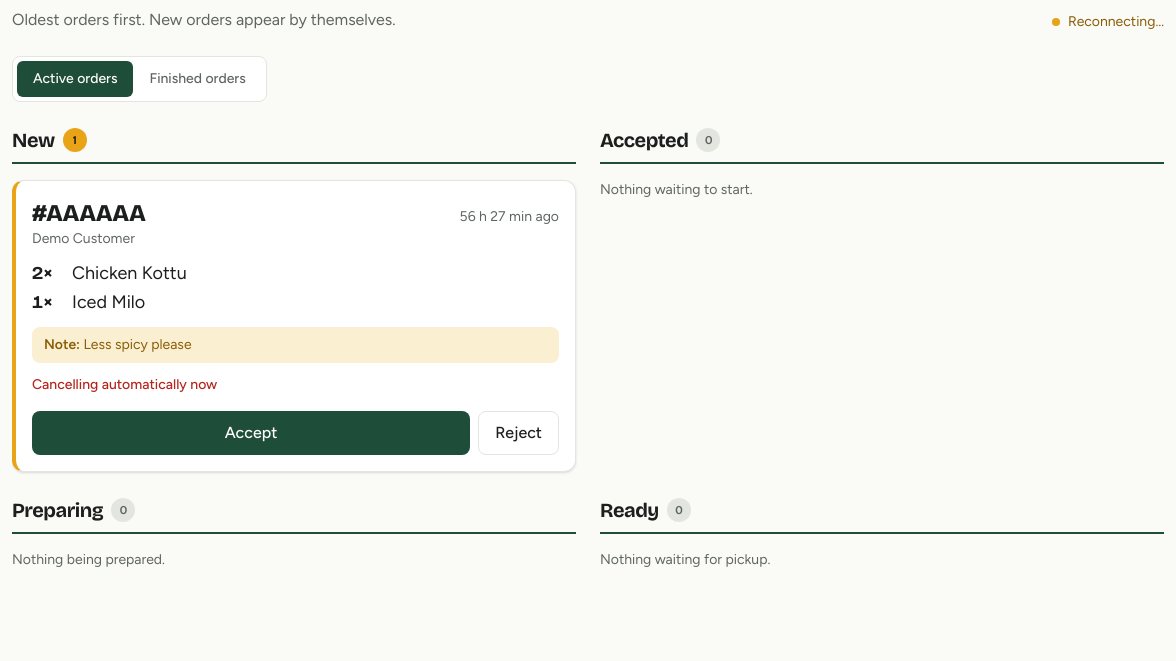
KitchenPage › requires a note when rejecting for another reason, then sends the reason
Later steps or results of the test are not shown.
Click the button with aria-label "Reject order #AAAAAA": {"x": 519, "y": 432} [478,410,559,454]
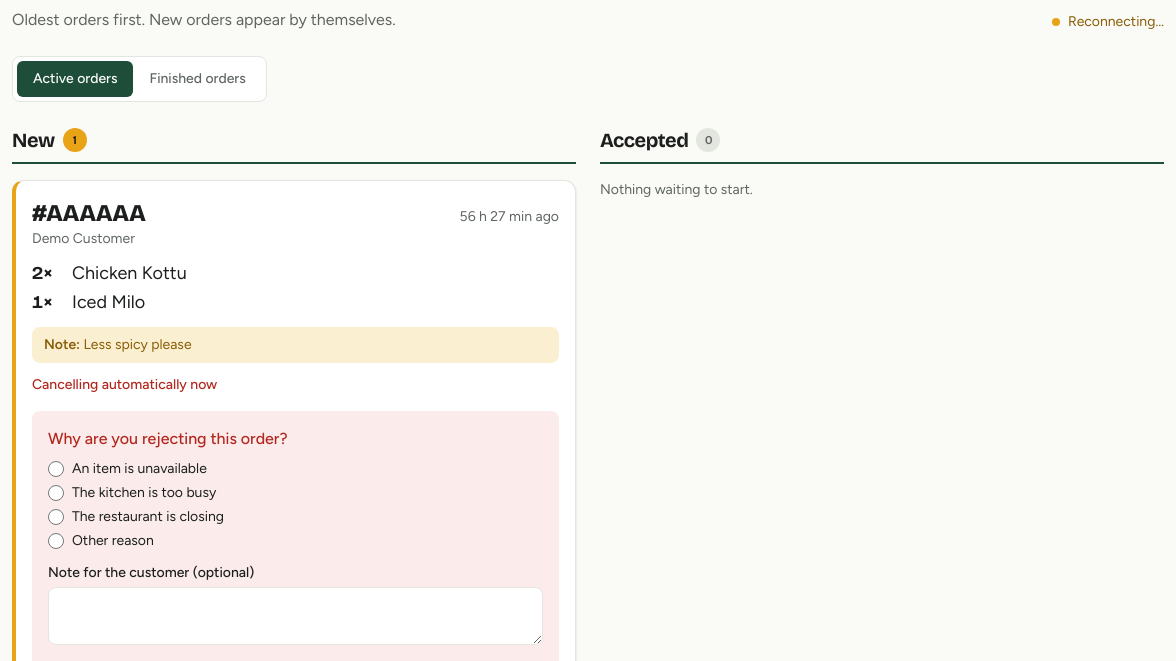
Click the radio button labelled "Other reason": {"x": 56, "y": 540} [48,532,64,548]
(page scrolled)
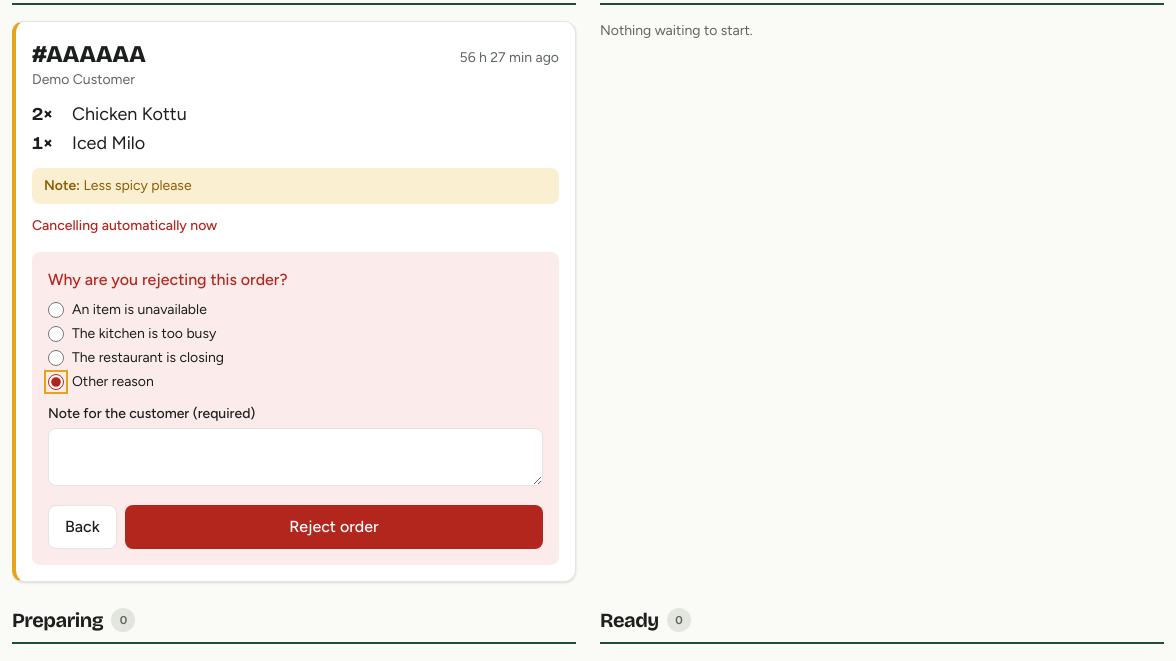
Click the button "Reject order": {"x": 334, "y": 526} [125,504,543,548]
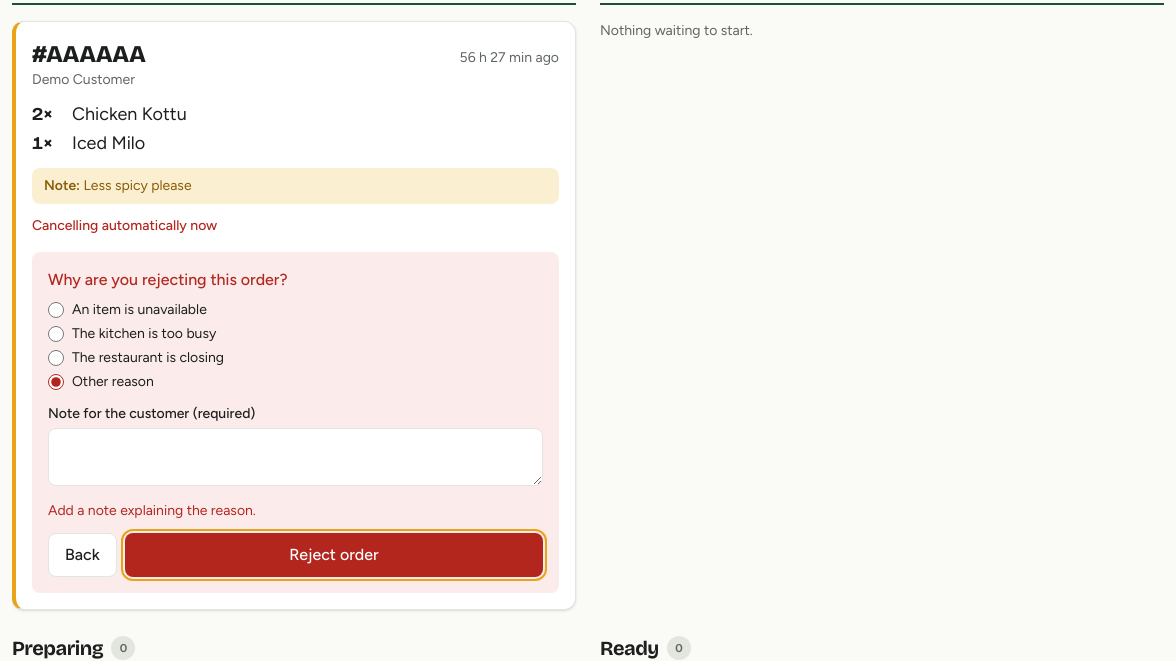
Expected: the message shows "Add a note", [48,502,256,518]
